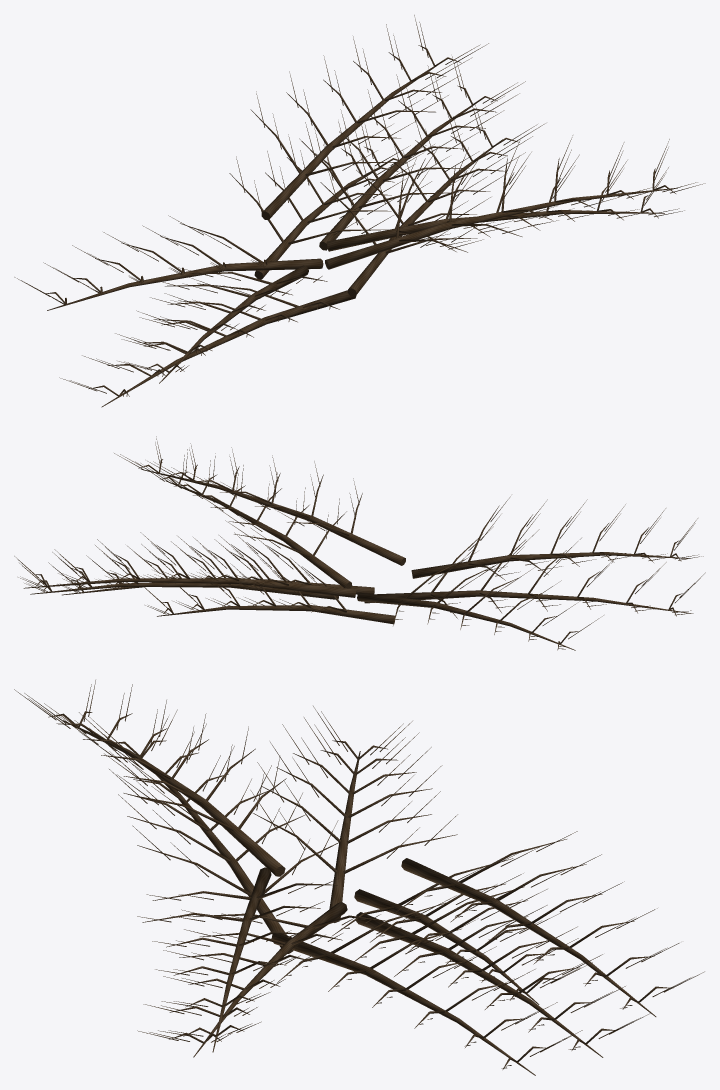
Rendered from SS_Brash_Dry_02_LOD0.fbx.
3 views of the same model, one above another, from view 1: azimuth 30°, elevation 25°; view 2: azimuth 150°, elevation 25°; view 3: azimuth 270°, elevation 25° (orthographic). The views are drawn at different scales.
Visible parts, largest first — view 1: SS_Brash_Dry_02_LOD0_Structure; view 2: SS_Brash_Dry_02_LOD0_Structure; view 3: SS_Brash_Dry_02_LOD0_Structure.
Boxes of the visible parts, x1,y1,x2,y2 form: SS_Brash_Dry_02_LOD0_Structure: (14, 15, 705, 407); SS_Brash_Dry_02_LOD0_Structure: (14, 436, 705, 650); SS_Brash_Dry_02_LOD0_Structure: (14, 680, 704, 1075).
Bounding box in the file's own units: 627 × 108 × 483.
Materials: 1 (1 with a texture image).
